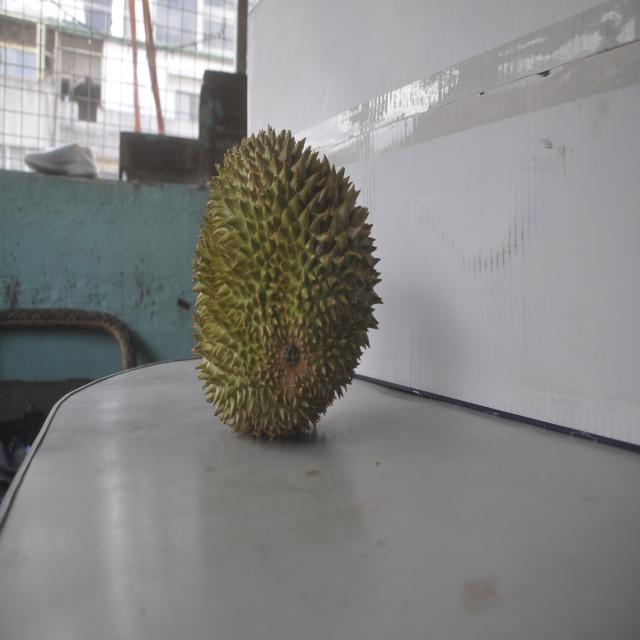mature: (191, 124, 375, 440)
